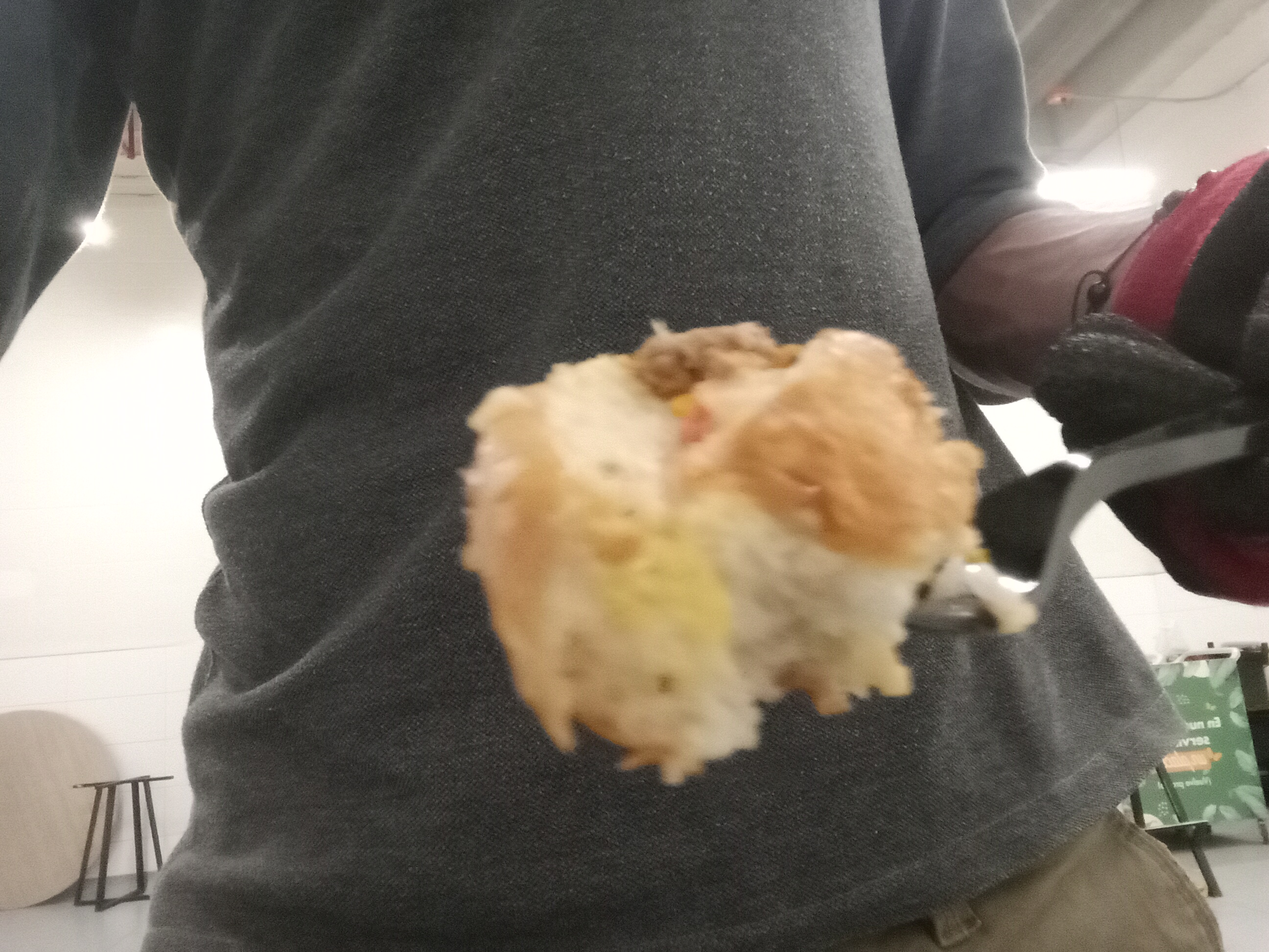Organico: (454, 315, 984, 782)
